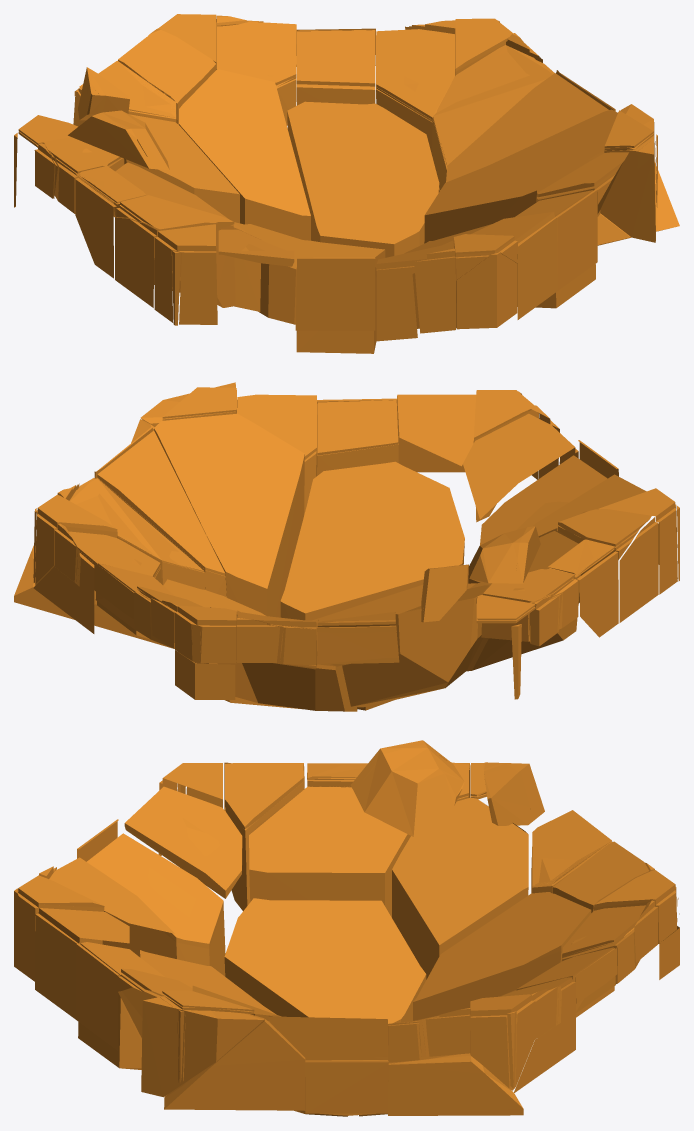
The model's file is beigeFlooringTile_crack_01.fbx.
3 views of the same model, one above another, from view 1: azimuth 30°, elevation 25°; view 2: azimuth 150°, elevation 25°; view 3: azimuth 270°, elevation 25° (orthographic). The views are drawn at different scales.
Visible parts, largest first — view 1: beigeFlooringTile_crack_01; view 2: beigeFlooringTile_crack_01; view 3: beigeFlooringTile_crack_01.
Part boxes in pixels (<box>): beigeFlooringTile_crack_01: <box>14,14,679,353</box>; beigeFlooringTile_crack_01: <box>14,382,679,711</box>; beigeFlooringTile_crack_01: <box>14,740,679,1116</box>.
Size of the model in its own units: 206 by 88.61 by 231.
